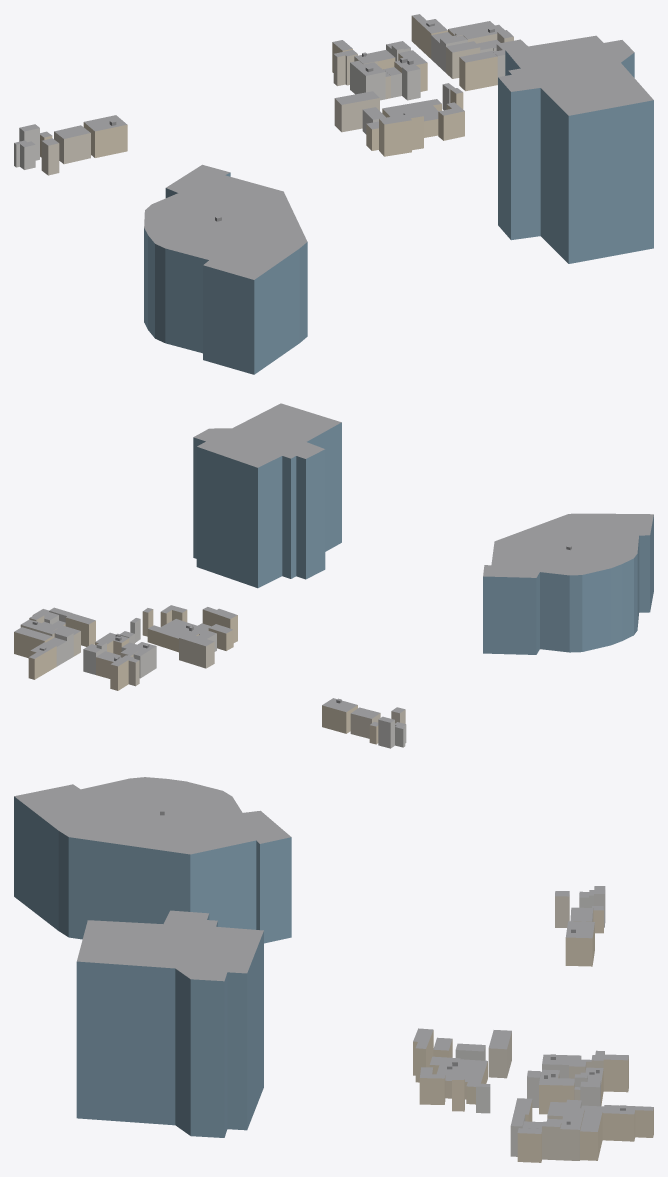
File: building_0_-2.glb
3 renders of one model, top to bottom at view 1: azimuth 30°, elevation 25°; view 2: azimuth 150°, elevation 25°; view 3: azimuth 270°, elevation 25°, orthographic. The views are drawn at different scales.
Visible parts, largest first — view 1: glass_blue, roof, sandstone, concrete_warm, concrete_light; view 2: glass_blue, roof, sandstone, concrete_light, concrete_warm; view 3: glass_blue, roof, sandstone, concrete_warm, concrete_light.
Part boxes in pixels (x1,y1,x2,y2): glass_blue: (144,50,653,374); roof: (14,14,653,279); sandstone: (40,16,497,157); concrete_warm: (41,32,513,175); concrete_light: (14,35,505,169); glass_blue: (193,422,653,654); roof: (14,403,653,728); sandstone: (14,609,378,744); concrete_light: (44,611,406,748); concrete_warm: (20,615,405,738); glass_blue: (14,796,291,1137); roof: (14,777,653,1133); sandstone: (413,910,653,1162); concrete_warm: (488,895,604,1160); concrete_light: (455,890,605,1156).
Size of the model in its own units: 273 by 70 by 259.
